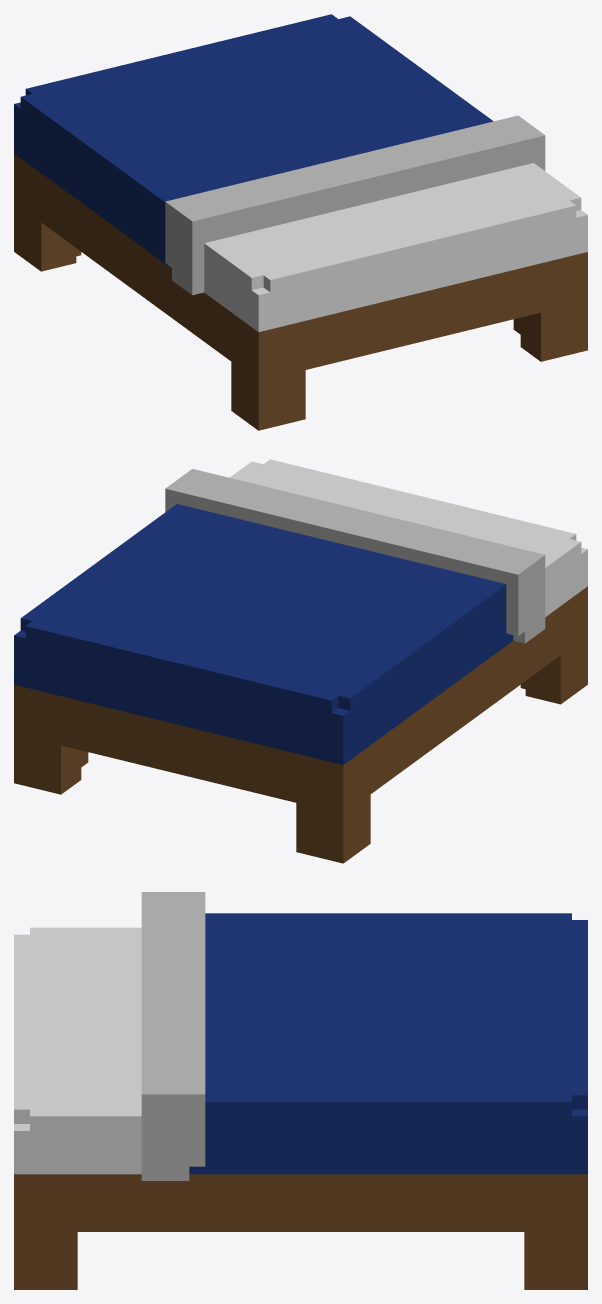
Rendered from double bed blue.obj.
3 views of the same model, one above another, from view 1: azimuth 30°, elevation 25°; view 2: azimuth 150°, elevation 25°; view 3: azimuth 270°, elevation 25° (orthographic). The views are drawn at different scales.
Visible parts, largest first — view 1: double bed blue; view 2: double bed blue; view 3: double bed blue.
Part boxes in pixels (x1,y1,x2,y2): double bed blue: [14, 14, 587, 430]; double bed blue: [14, 459, 587, 863]; double bed blue: [14, 892, 587, 1289].
Bounding box in the file's own units: 30 × 14 × 36.
